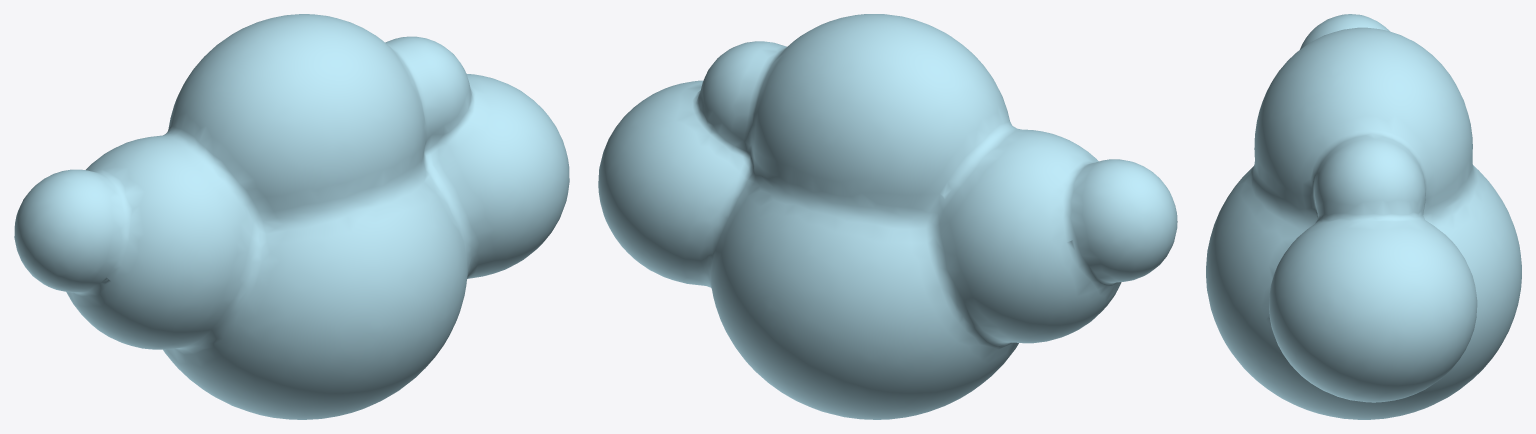
The model's file is wolke.fbx.
3 renders of one model, left to right at view 1: azimuth 30°, elevation 25°; view 2: azimuth 150°, elevation 25°; view 3: azimuth 270°, elevation 25°, orthographic. The views are drawn at different scales.
Parts seen in each view (by area): view 1: Wolke; view 2: Wolke; view 3: Wolke.
Part boxes in pixels (left/top/right/bottom): Wolke: left=14, top=14, right=569, bottom=419; Wolke: left=598, top=14, right=1177, bottom=419; Wolke: left=1206, top=14, right=1521, bottom=419.
Size of the model in its own units: 0.2481 by 0.131 by 0.1651.
